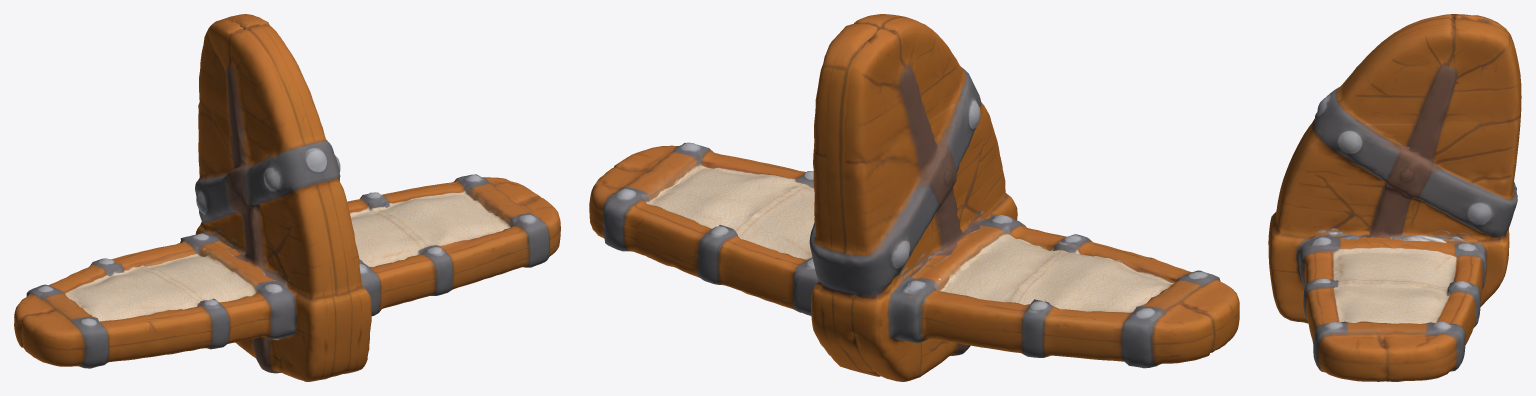
File: FlightRaft_Tail.fbx
The picture shows the model from 3 angles, left to right: view 1: azimuth 30°, elevation 25°; view 2: azimuth 150°, elevation 25°; view 3: azimuth 270°, elevation 25°; orthographic projection. The views are drawn at different scales.
Visible parts, largest first — view 1: texture_mapping; view 2: texture_mapping; view 3: texture_mapping.
Boxes of the visible parts, left/top/right/bottom form: texture_mapping: left=14, top=14, right=560, bottom=381; texture_mapping: left=589, top=14, right=1239, bottom=381; texture_mapping: left=1268, top=14, right=1521, bottom=381.
Size of the model in its own units: 0.9983 by 0.4227 by 0.5653.
Materials: 1 (1 with a texture image).
